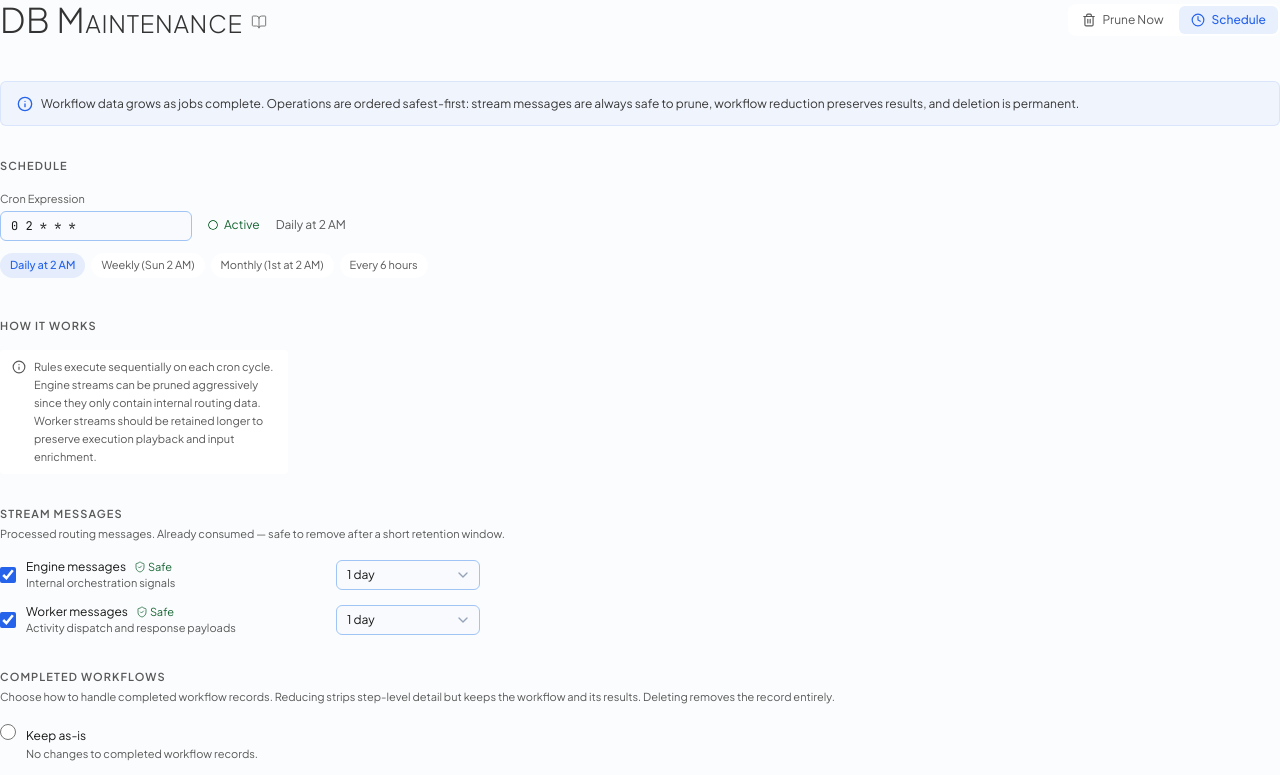
MaintenancePage - Prune mode › opens confirm modal when Prune Now button is clicked
The width and height of the screenshot is (1280, 775).
Click the button "Prune Now": click(1123, 20) [1070,6,1176,34]
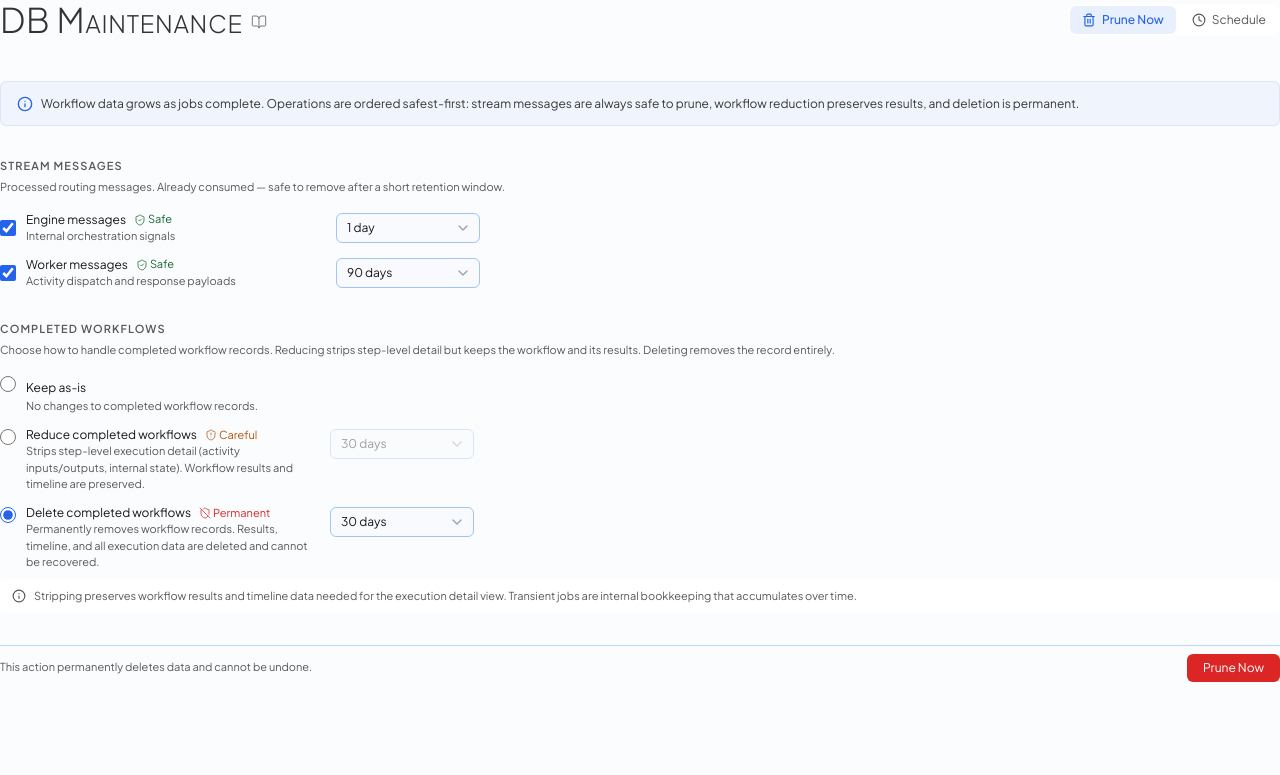
Click the 2nd button "Prune Now": click(1233, 668) [1187,654,1279,682]
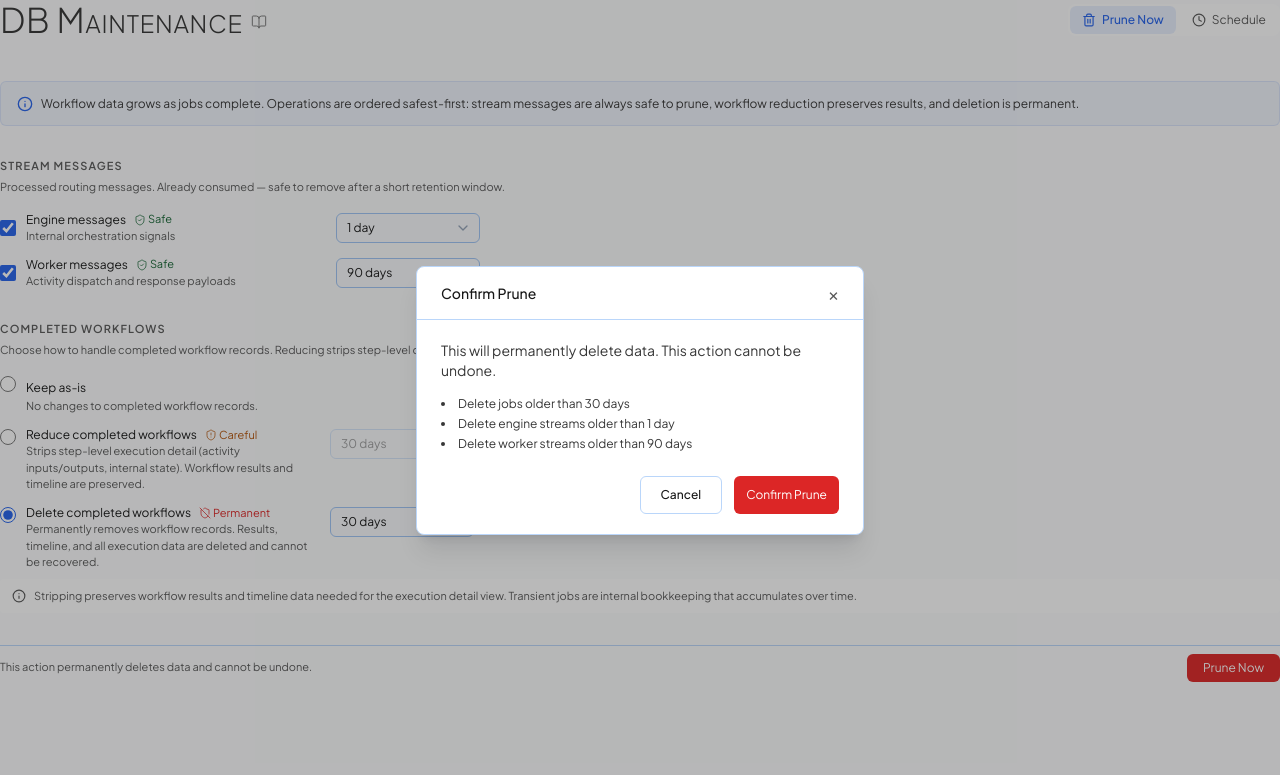
Expected: the text "This will permanently delete data" is shown, [441,340,801,378]
